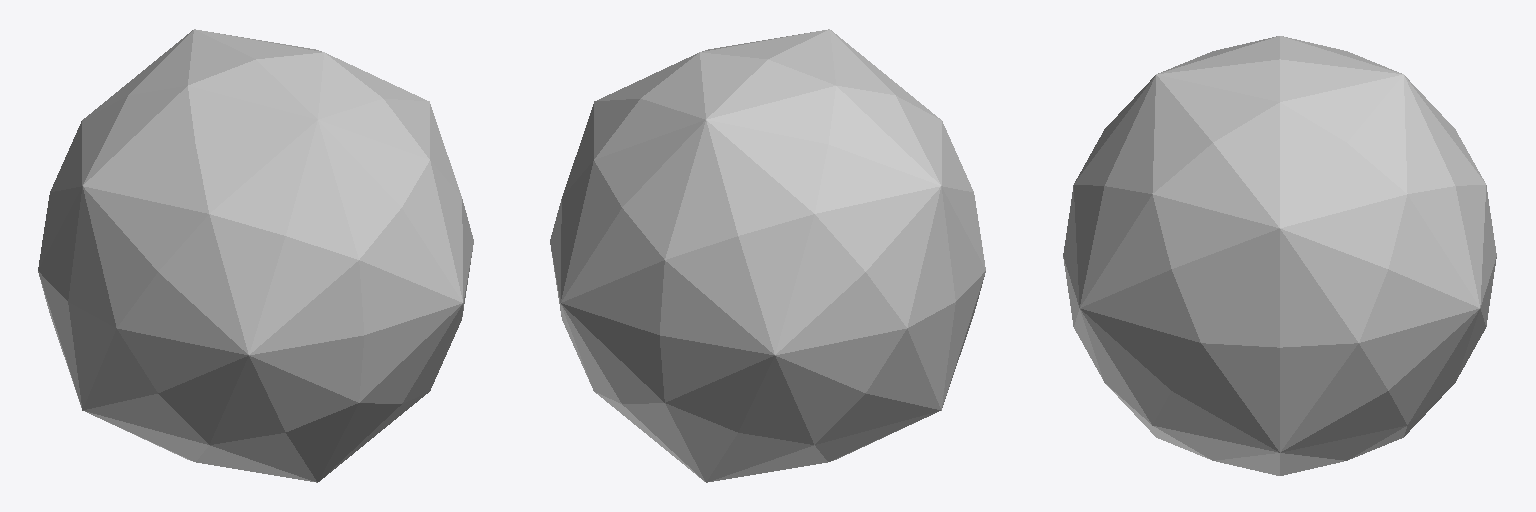
File: disdyakis-triacontahedron.obj
The picture shows the model from 3 angles: view 1: azimuth 30°, elevation 25°; view 2: azimuth 150°, elevation 25°; view 3: azimuth 270°, elevation 25°; orthographic projection.
Visible parts, largest first — view 1: Disdyakistriaconta_Disdyakistriaconta.001; view 2: Disdyakistriaconta_Disdyakistriaconta.001; view 3: Disdyakistriaconta_Disdyakistriaconta.001.
Part boxes in pixels (x1,y1,x2,y2): Disdyakistriaconta_Disdyakistriaconta.001: (38, 29, 473, 482); Disdyakistriaconta_Disdyakistriaconta.001: (550, 29, 985, 482); Disdyakistriaconta_Disdyakistriaconta.001: (1063, 36, 1496, 475).
Bounding box in the file's own units: 10 × 10 × 10.